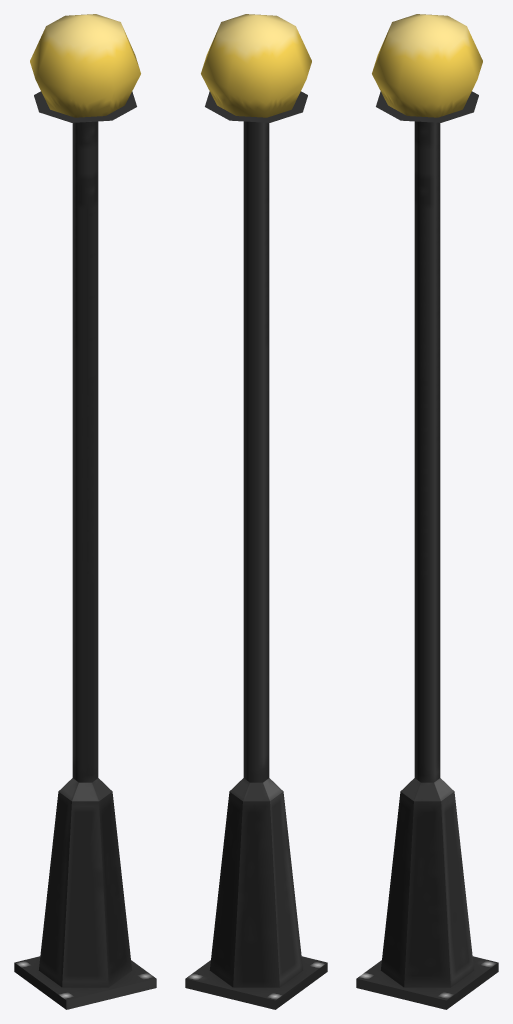
The model's file is Street_Light_001_H.FBX.
3 renders of one model, left to right at view 1: azimuth 30°, elevation 25°; view 2: azimuth 150°, elevation 25°; view 3: azimuth 330°, elevation 25°, orthographic.
Visible parts, largest first — view 1: Street_Light_001_H; view 2: Street_Light_001_H; view 3: Street_Light_001_H.
Boxes of the visible parts, x1,y1,x2,y2 form: Street_Light_001_H: [14, 14, 156, 1009]; Street_Light_001_H: [185, 14, 327, 1009]; Street_Light_001_H: [356, 14, 498, 1009].
Size of the model in its own units: 33.28 by 33.28 by 307.
